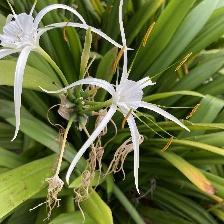spider lily: (98, 64, 168, 139)
